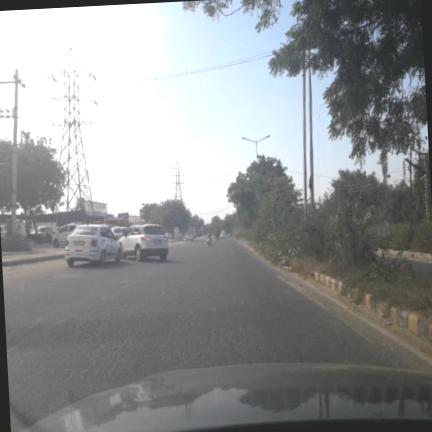Road: (3, 238, 427, 431)
